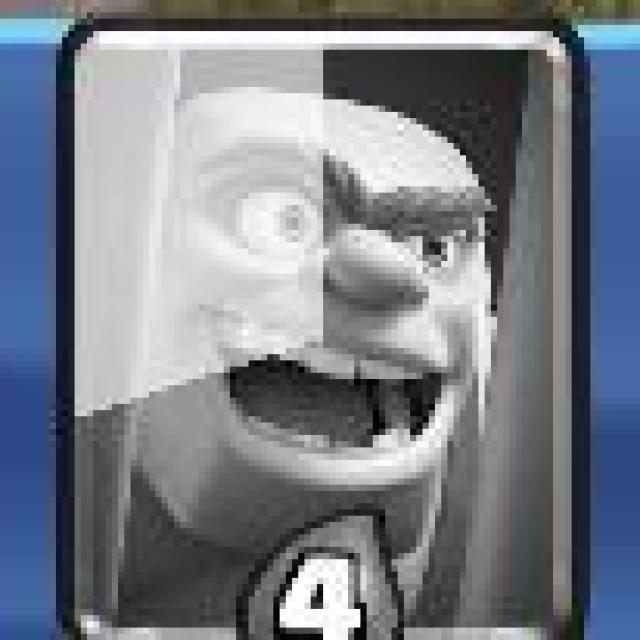Goblin_Cage: (58, 18, 588, 636)
